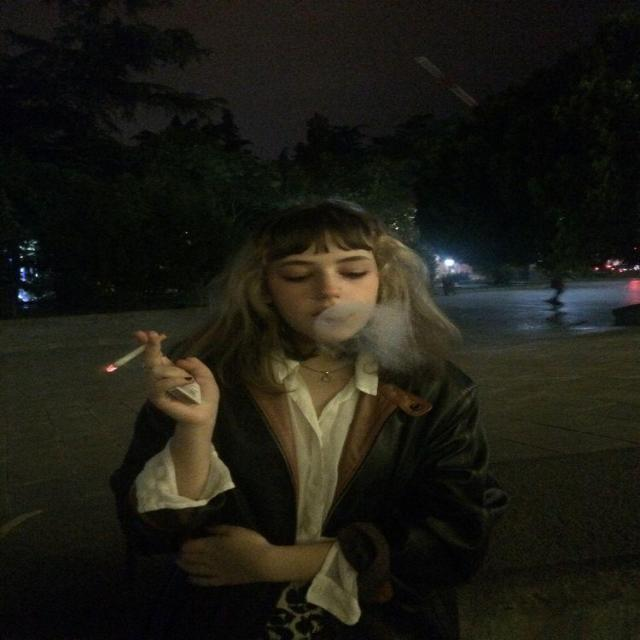cigarette: (92, 329, 178, 380)
